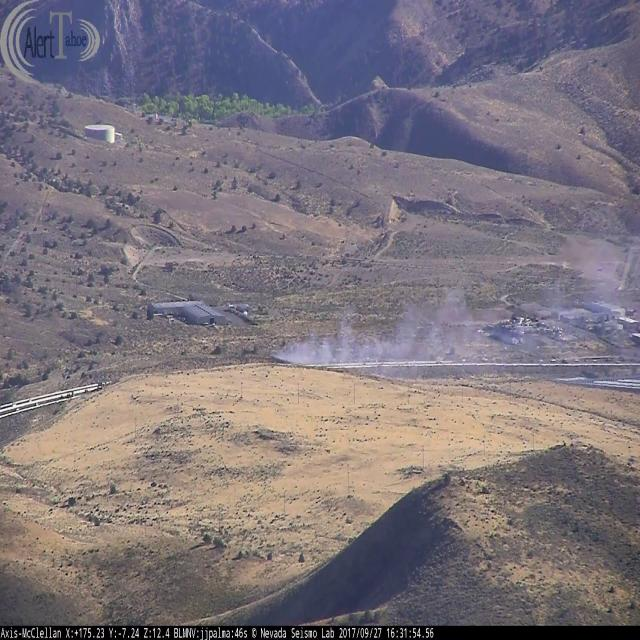smoke: (269, 234, 640, 385)
